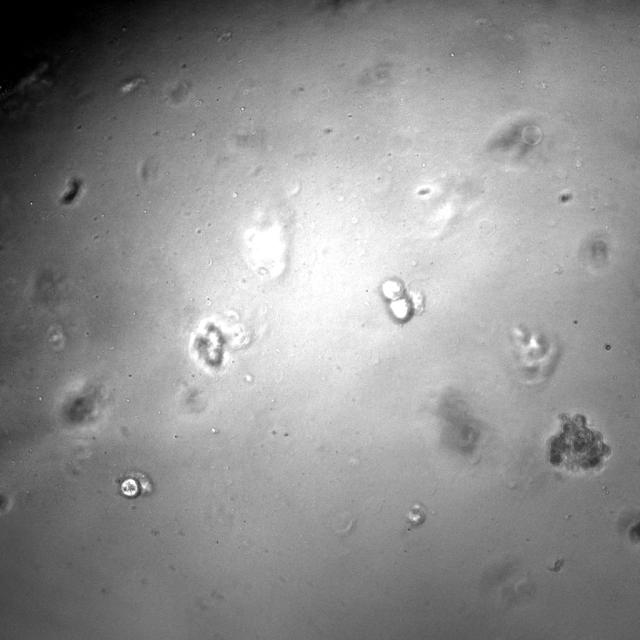organoid: (189, 311, 252, 373), (549, 413, 611, 470), (381, 277, 414, 324), (118, 472, 152, 498), (406, 503, 424, 526)
